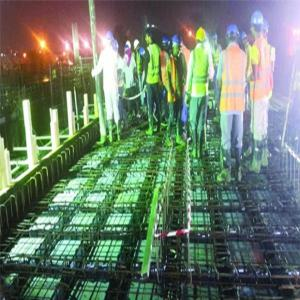blue: (252, 10, 264, 38), (227, 25, 241, 46), (172, 34, 182, 53), (162, 36, 171, 52), (106, 31, 115, 47), (241, 32, 249, 47), (213, 32, 219, 45)
none: (146, 28, 155, 45)
white: (134, 39, 141, 53)
yellow: (196, 26, 208, 48)
